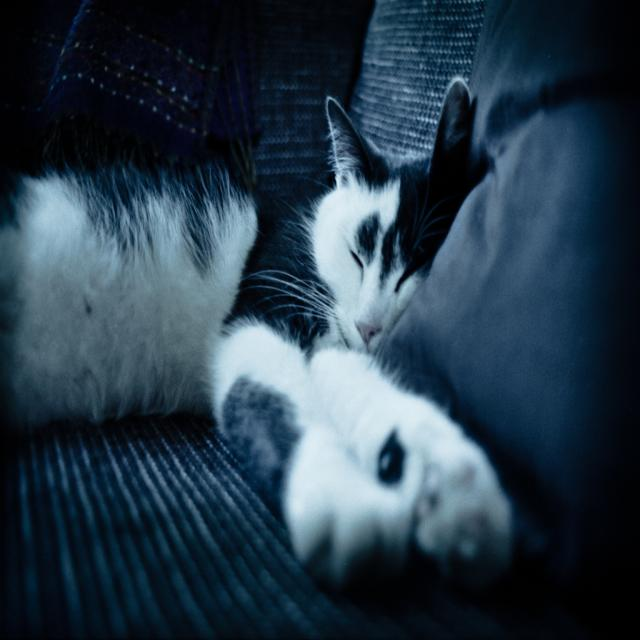Cat: (0, 75, 511, 590)
